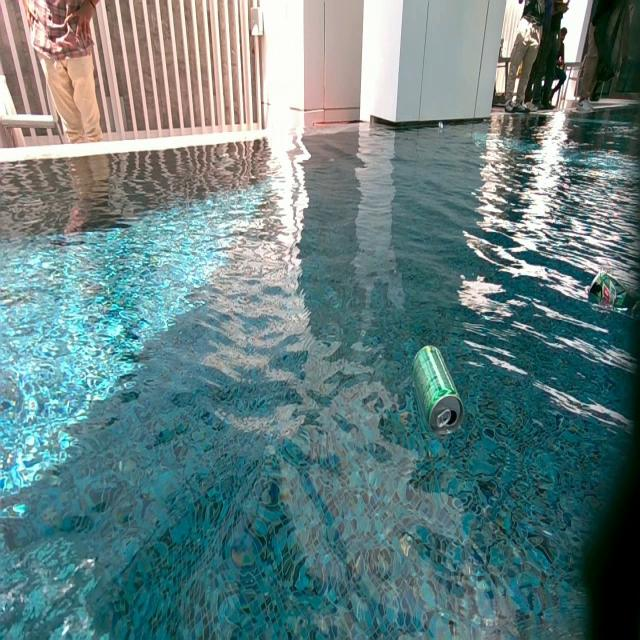Cans: (412, 342, 468, 434), (588, 271, 618, 307), (440, 122, 446, 129)
